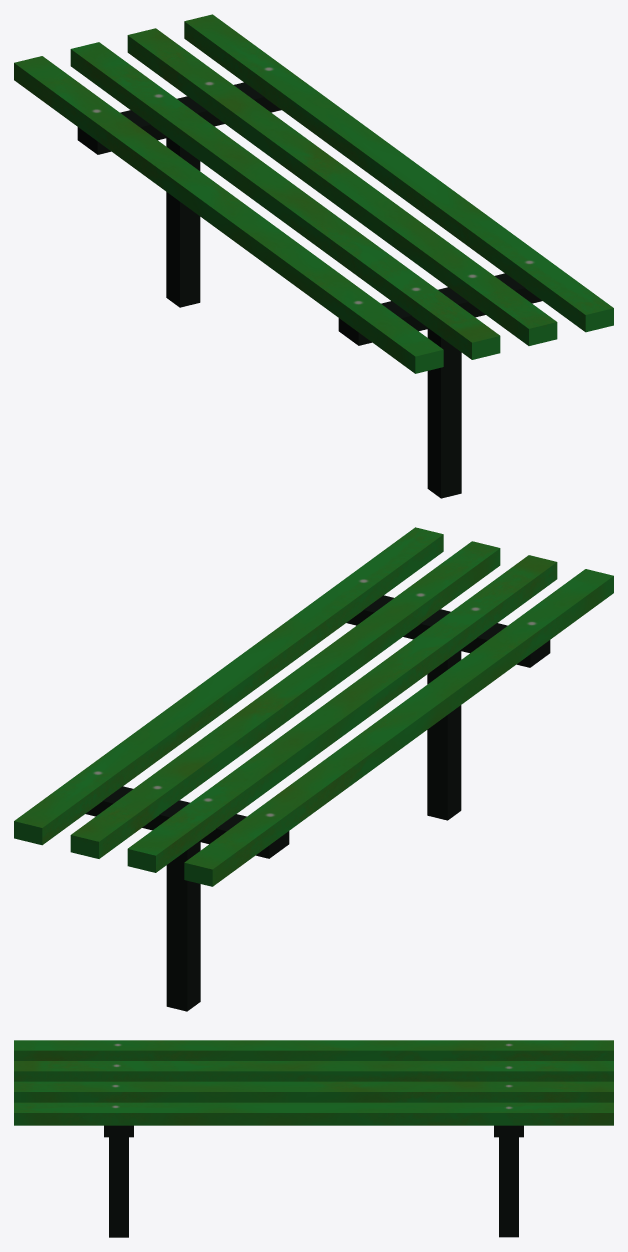
The model's file is Model_Ławeczka.fbx.
3 views of the same model, one above another, from view 1: azimuth 30°, elevation 25°; view 2: azimuth 150°, elevation 25°; view 3: azimuth 270°, elevation 25° (orthographic). The views are drawn at different scales.
Parts seen in each view (by area): view 1: Cube; view 2: Cube; view 3: Cube.
Part boxes in pixels (<box>): Cube: <box>14,14,613,498</box>; Cube: <box>14,527,613,1011</box>; Cube: <box>14,1040,613,1237</box>.
Size of the model in its own units: 60 by 60.7 by 210.
